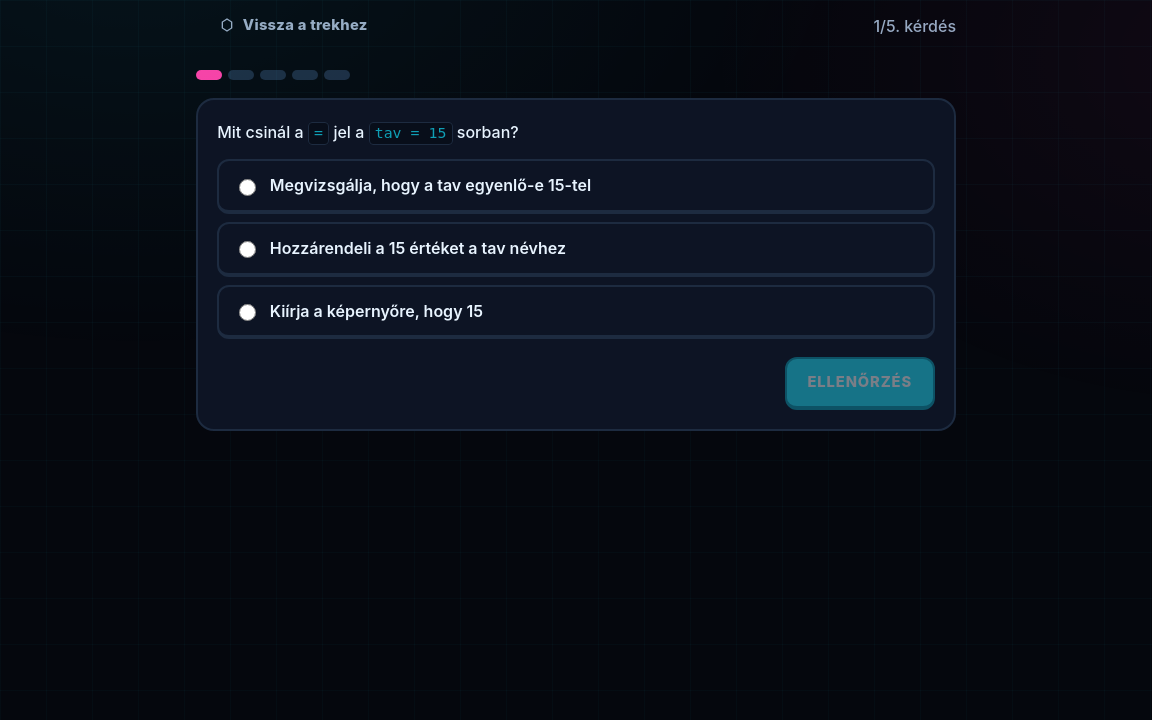
Test: quiz flow › shows the explanation after checking an answer
This screenshot has width=1152, height=720.
Click the radio button labelled "Megvizsgálja, hogy a tav egyenlő-e 15-tel".
click(247, 187)  # box top-left (239, 178), bottom-right (256, 196)
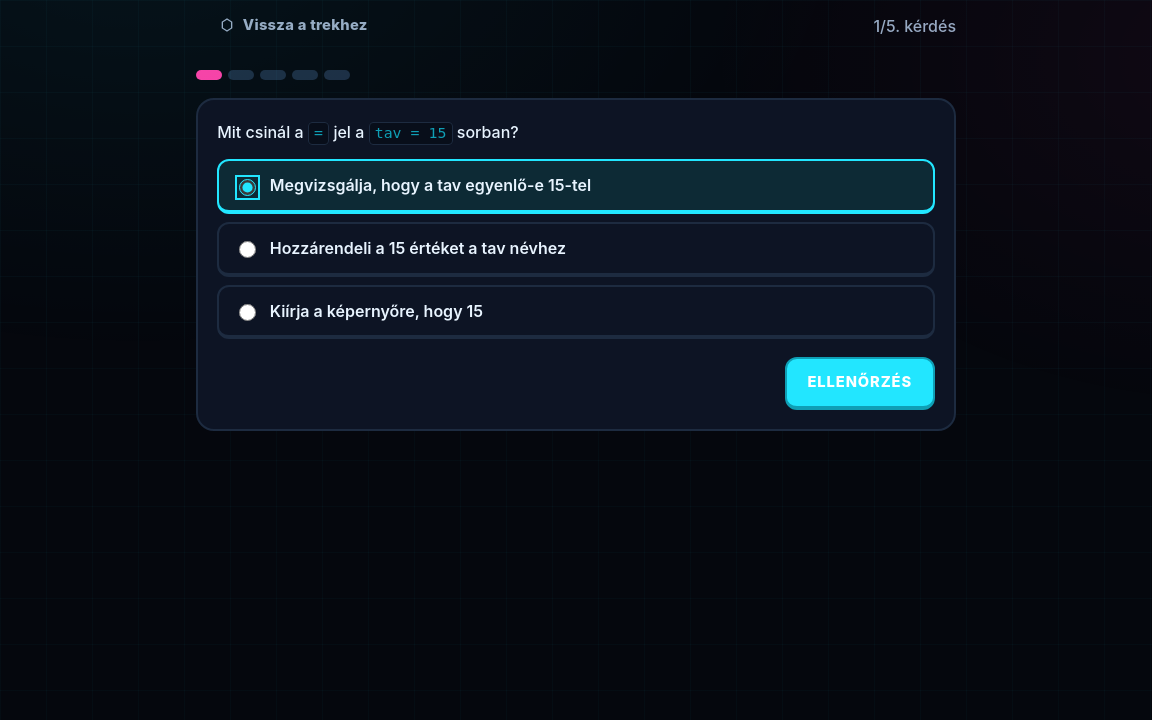
Click the button "Ellenőrzés".
click(860, 383)  # box top-left (785, 357), bottom-right (935, 410)
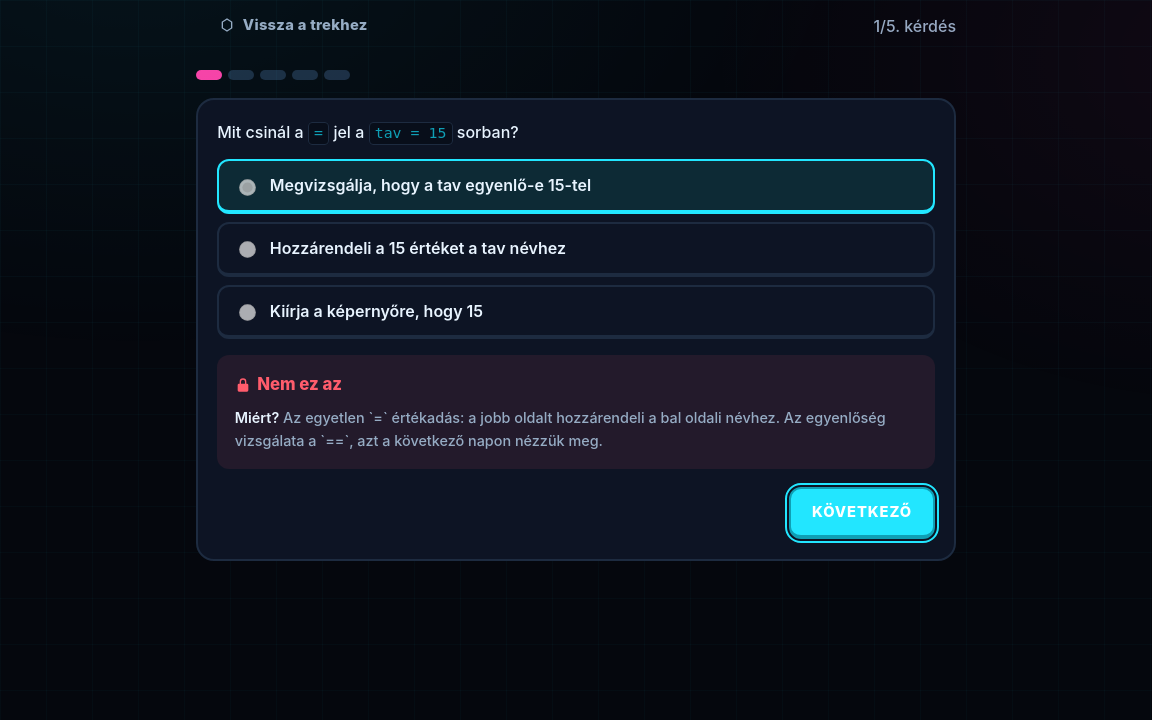
Now the text "Miért?" is shown, box top-left (235, 408), bottom-right (279, 426)
